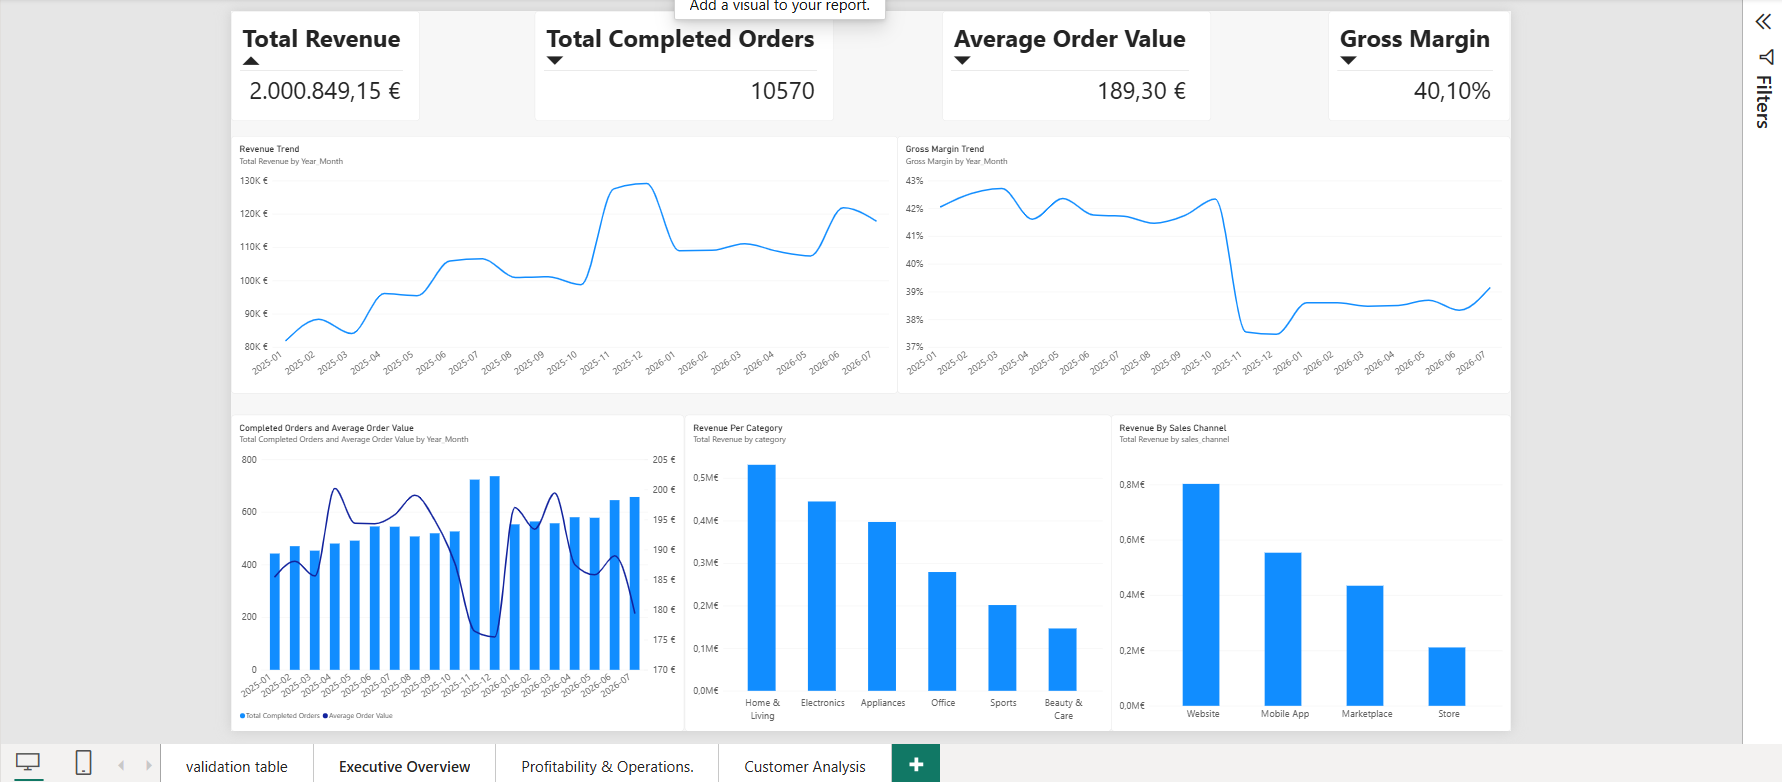

What the dashboard file says about the page in this screenshot:
{"tool":"powerbi","page":{"name":"Executive Overview","canvas":[2560,1440],"ordinal":1},"visuals":[{"type":"tableEx","fields":{"Values":["urbancart_analytics order_items.Total Revenue"]},"box":[0,0,377.8,220],"z":0},{"type":"tableEx","fields":{"Values":["CalendarTable.Total Completed Orders"]},"box":[606.7,0,598.7,220.2],"z":1000},{"type":"tableEx","fields":{"Values":["CalendarTable.Average Order Value"]},"box":[1422.2,0,537.8,220],"z":2000},{"type":"tableEx","fields":{"Values":["CalendarTable.Gross Margin"]},"box":[2195.6,0,363.5,220.2],"z":3000},{"type":"lineChart","title":"Revenue Trend","fields":{"Y":["urbancart_analytics order_items.Total Revenue"],"Category":["CalendarTable.Year_Month"]},"box":[0,251.1,1333.3,515.6],"z":4000},{"type":"lineChart","title":"Gross Margin Trend","fields":{"Category":["CalendarTable.Year_Month"],"Y":["CalendarTable.Gross Margin"]},"box":[1333.3,251.1,1226.7,515.6],"z":5000},{"type":"lineClusteredColumnComboChart","title":"Completed Orders and Average Order Value","fields":{"Category":["CalendarTable.Year_Month"],"Y":["CalendarTable.Total Completed Orders"],"Y2":["CalendarTable.Average Order Value"]},"box":[0,765,907.5,675],"z":6000},{"type":"columnChart","title":"Revenue By Category","fields":{"Category":["urbancart_analytics products.category"],"Y":["urbancart_analytics order_items.Total Revenue"]},"box":[907.5,765,852.5,675],"z":7000},{"type":"columnChart","title":"Revenue By Sales Channel","fields":{"Category":["urbancart_analytics orders.sales_channel"],"Y":["urbancart_analytics order_items.Total Revenue"]},"box":[1760,765,800,675],"z":7001}]}

Visuals, with their boxes on the page's 2560x1440 design canvas (x1, y1, x2, y2). These are canvas units, not pixel positions in the 1782x782 screenshot, which may show the page scaled, cropped or inside an application window:
tableEx - urbancart_analytics order_items.Total Revenue: detection(0, 0, 378, 220)
tableEx - CalendarTable.Total Completed Orders: detection(607, 0, 1205, 220)
tableEx - CalendarTable.Average Order Value: detection(1422, 0, 1960, 220)
tableEx - CalendarTable.Gross Margin: detection(2196, 0, 2559, 220)
"Revenue Trend" lineChart: detection(0, 251, 1333, 767)
"Gross Margin Trend" lineChart: detection(1333, 251, 2560, 767)
"Completed Orders and Average Order Value" lineClusteredColumnComboChart: detection(0, 765, 908, 1440)
"Revenue By Category" columnChart: detection(908, 765, 1760, 1440)
"Revenue By Sales Channel" columnChart: detection(1760, 765, 2560, 1440)
